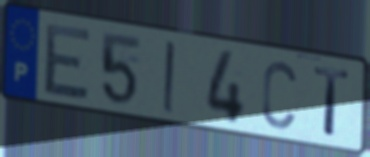4: (204, 47, 247, 126)
5: (99, 29, 144, 107)
C: (259, 57, 298, 132)
E: (41, 22, 94, 102)
I: (161, 38, 177, 117)
T: (312, 65, 353, 140)
